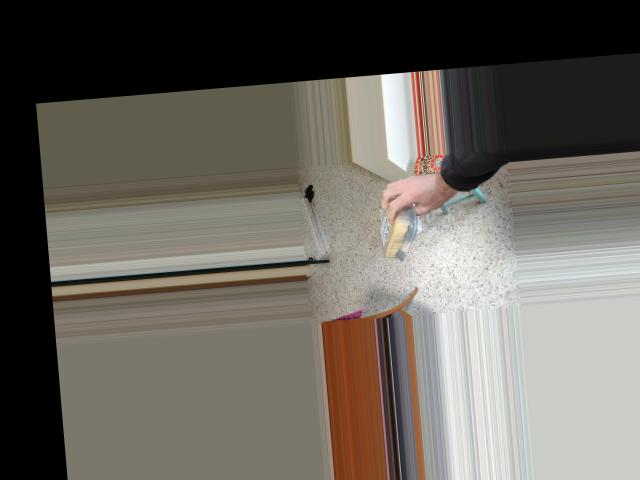cheese: (376, 194, 415, 263)
